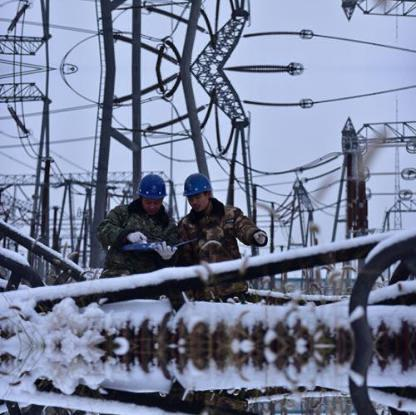helmet: (180, 164, 218, 204), (136, 170, 173, 204)
